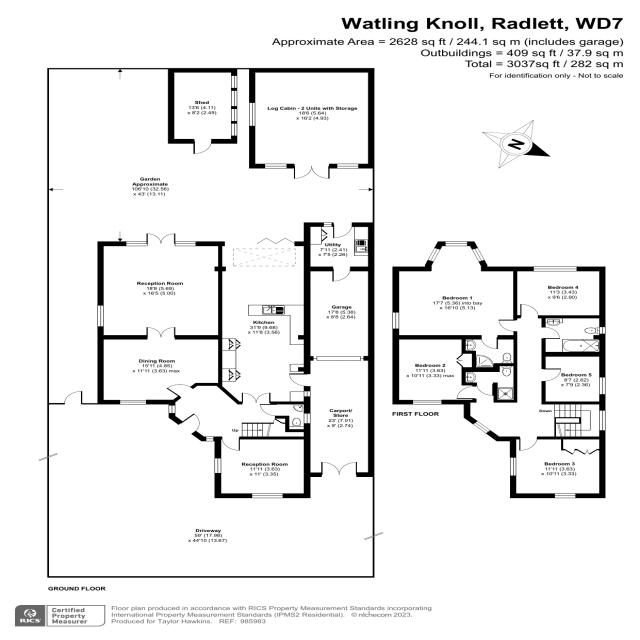DOOR: (178, 412, 200, 435), (166, 384, 194, 398), (241, 392, 271, 404), (332, 222, 353, 239), (288, 373, 311, 387), (331, 266, 351, 282), (518, 436, 538, 451), (519, 303, 539, 318), (221, 436, 241, 451), (542, 368, 562, 382), (456, 386, 477, 399), (480, 335, 499, 349), (541, 326, 561, 339), (476, 382, 494, 396), (498, 319, 517, 332), (259, 404, 277, 416)
DOUBLE DOOR: (145, 326, 176, 340), (146, 233, 176, 246)
ROOM: (392, 241, 518, 350), (97, 233, 223, 340), (97, 327, 223, 404), (509, 436, 606, 498), (214, 436, 311, 498), (392, 335, 477, 404), (513, 266, 606, 318), (541, 352, 606, 404)
WINDOW: (472, 420, 492, 434), (533, 266, 577, 272), (427, 247, 442, 263), (471, 247, 486, 263), (251, 493, 284, 499), (97, 305, 104, 327), (509, 457, 517, 476), (412, 400, 442, 405), (599, 410, 606, 431), (444, 241, 468, 247), (392, 312, 400, 329), (554, 493, 576, 499), (120, 400, 146, 405), (214, 458, 222, 474), (599, 377, 606, 395), (304, 413, 311, 424), (168, 405, 176, 414), (599, 327, 606, 334), (206, 436, 214, 442), (303, 391, 311, 397), (323, 222, 332, 227)
